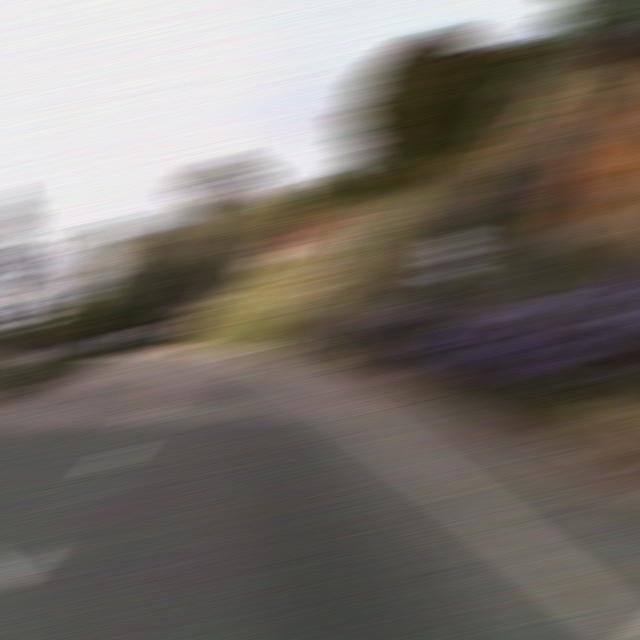speedLimit40: (424, 231, 478, 278)
